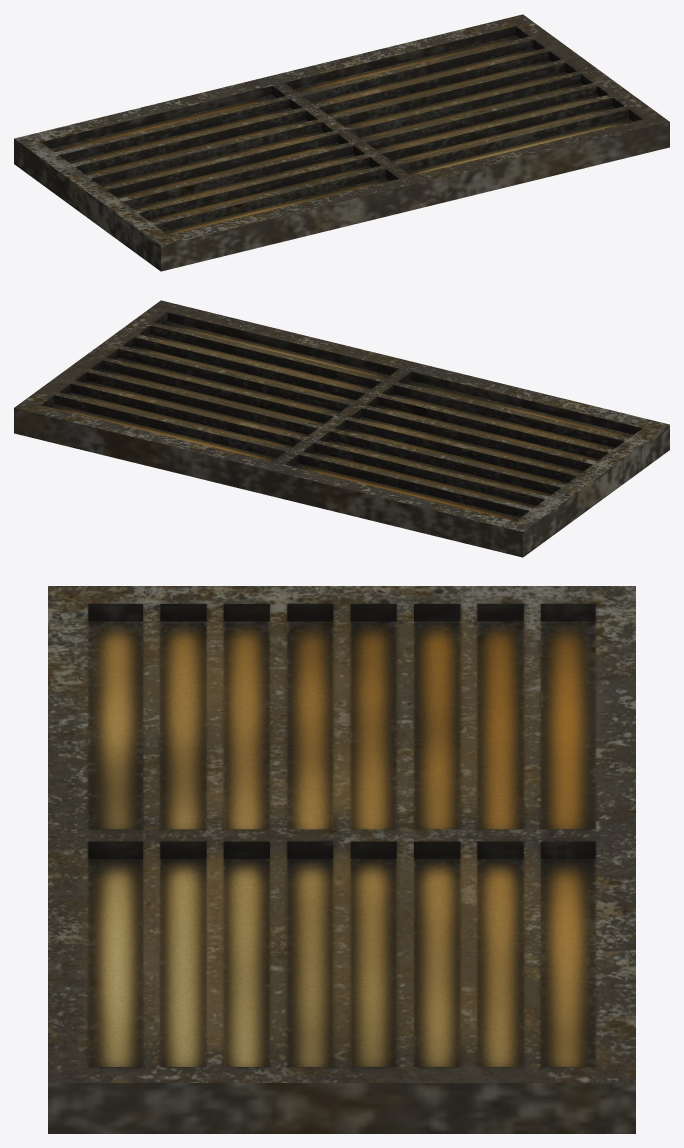
File: floor_grate.fbx
3 renders of one model, top to bottom at view 1: azimuth 30°, elevation 25°; view 2: azimuth 150°, elevation 25°; view 3: azimuth 270°, elevation 25°, orthographic. The views are drawn at different scales.
Parts seen in each view (by area): view 1: Mesh; view 2: Mesh; view 3: Mesh.
Part boxes in pixels (x1,y1,x2,y2): Mesh: (14,14,669,271); Mesh: (14,300,669,557); Mesh: (48,586,635,1133).
Bounding box in the file's own units: 400 × 19.14 × 200.
Materials: 1 (1 with a texture image).
